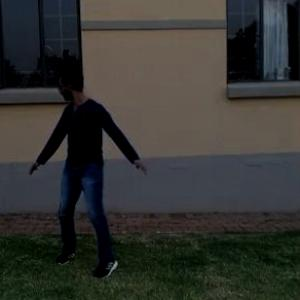land: (22, 57, 145, 268)
